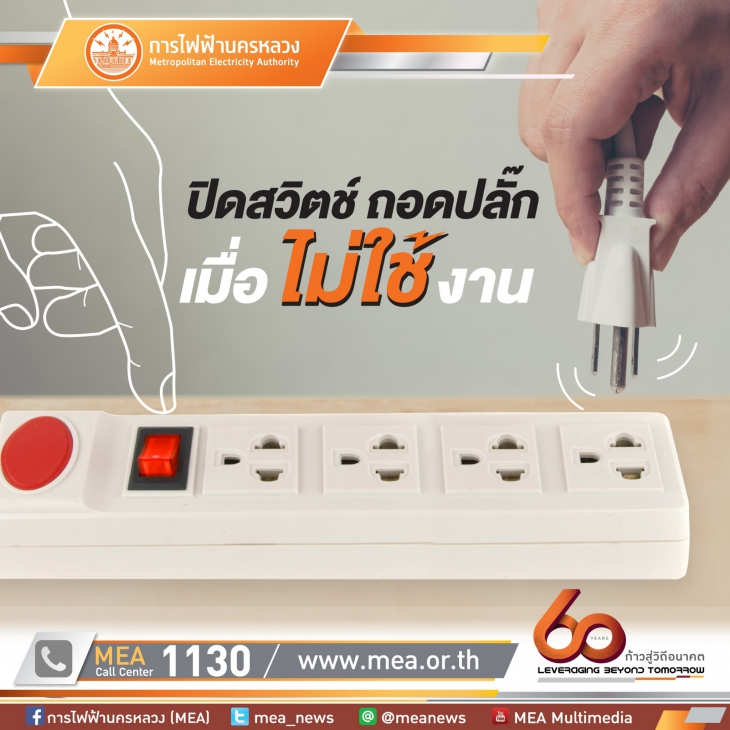Three_eye_plug: (1, 402, 697, 591)
